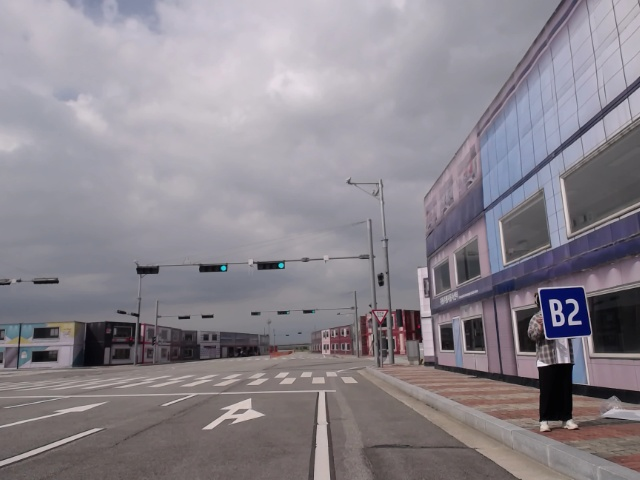delivery_b2: (536, 286, 595, 340)
straight_green_4: (196, 263, 229, 274), (256, 262, 288, 272), (302, 308, 316, 314), (276, 310, 292, 315)
